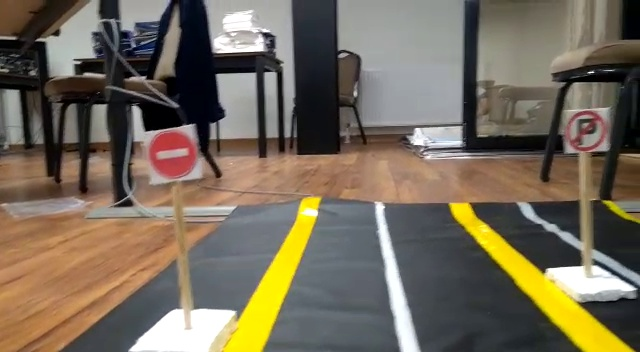girisi_olmayan_yol: (148, 125, 201, 180)
park_yapilmaz: (560, 109, 611, 154)
